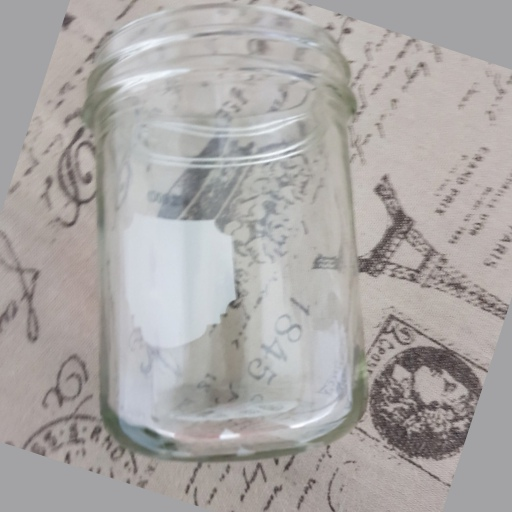Glass_5: (89, 7, 367, 456)
